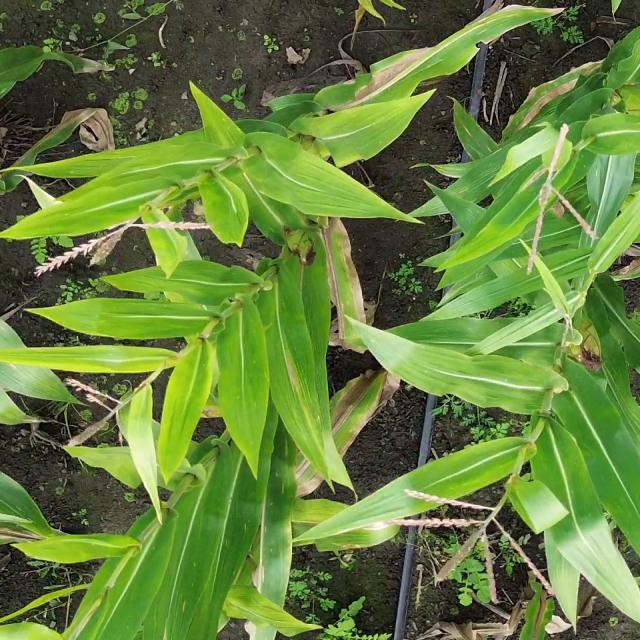northern-leaf-blight: (330, 44, 465, 100), (320, 369, 389, 457), (502, 75, 587, 131), (268, 346, 310, 398), (0, 524, 52, 545)
